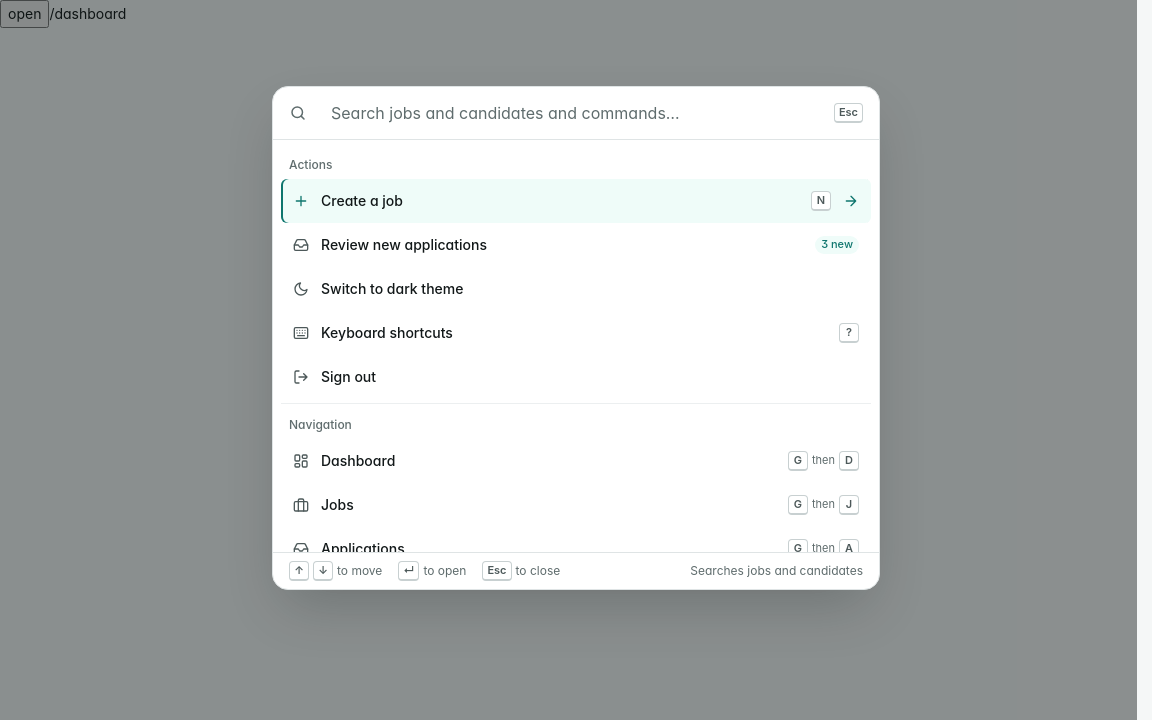
CommandPalette › searches jobs on the server and opens a result
The image size is (1152, 720).
Type "backend" into the dropdown at [570, 113], box [319, 87, 822, 139]
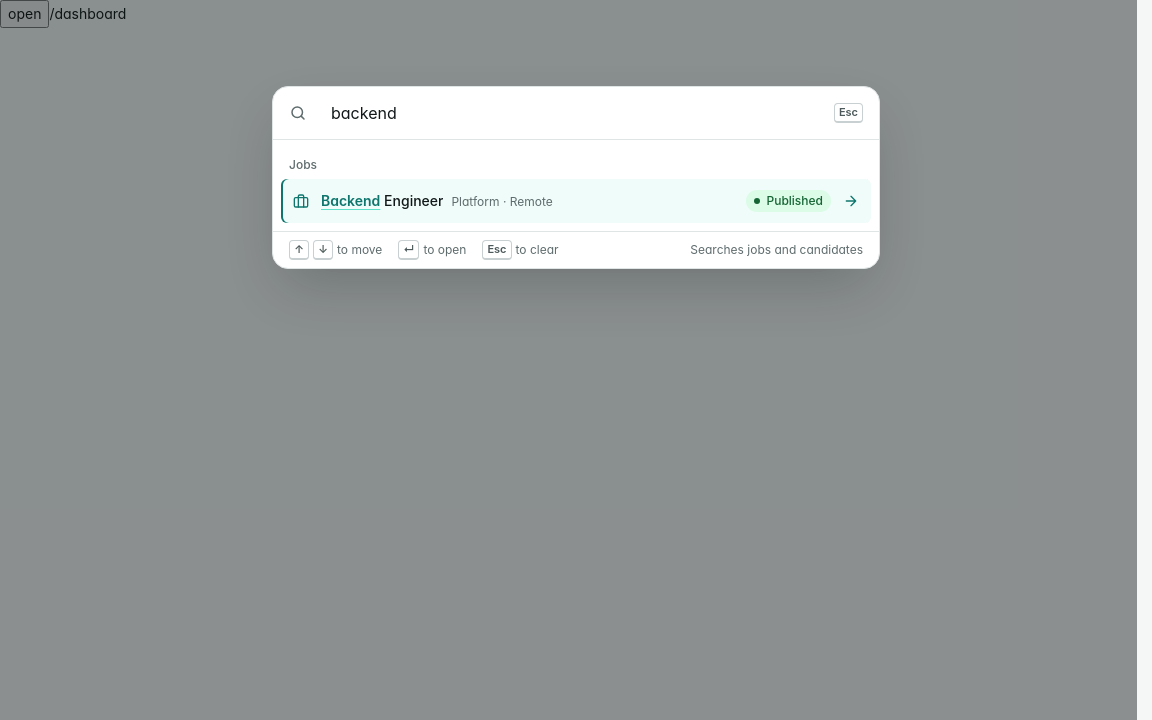
Click the option "Backend Engineer Platform · Remote Published" at [351, 201], box [281, 179, 871, 223]
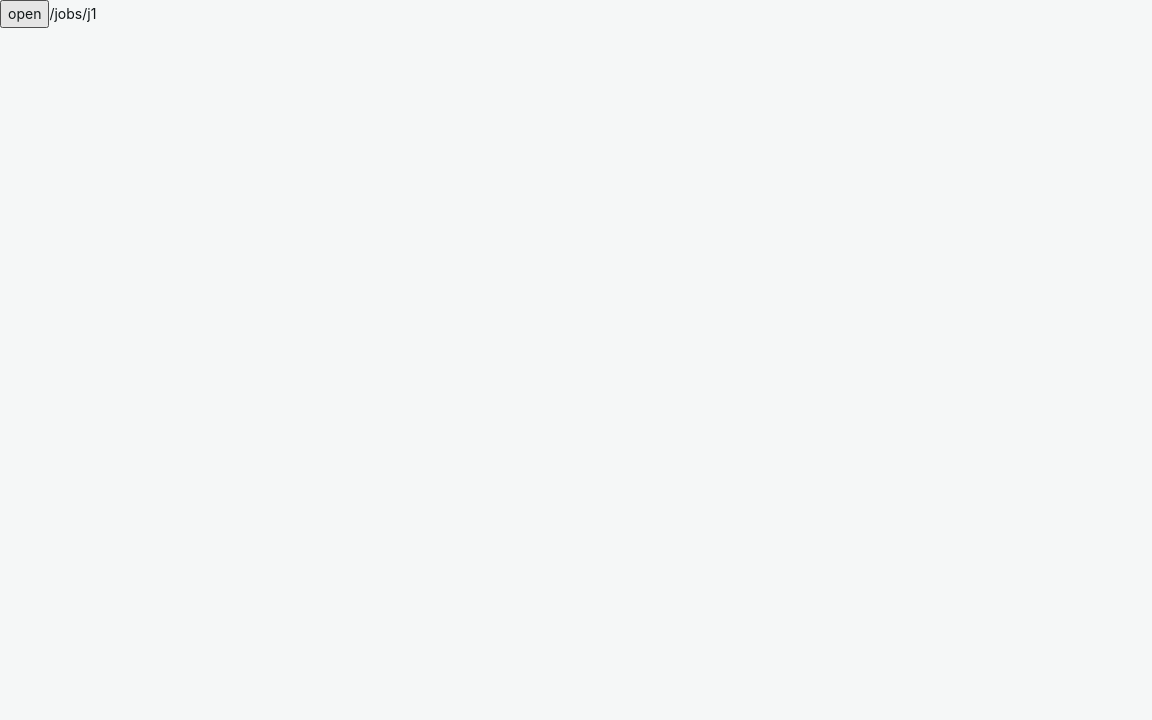
Expected: the text with test id "where" reads "/jobs/j1", [49, 5, 96, 22]
